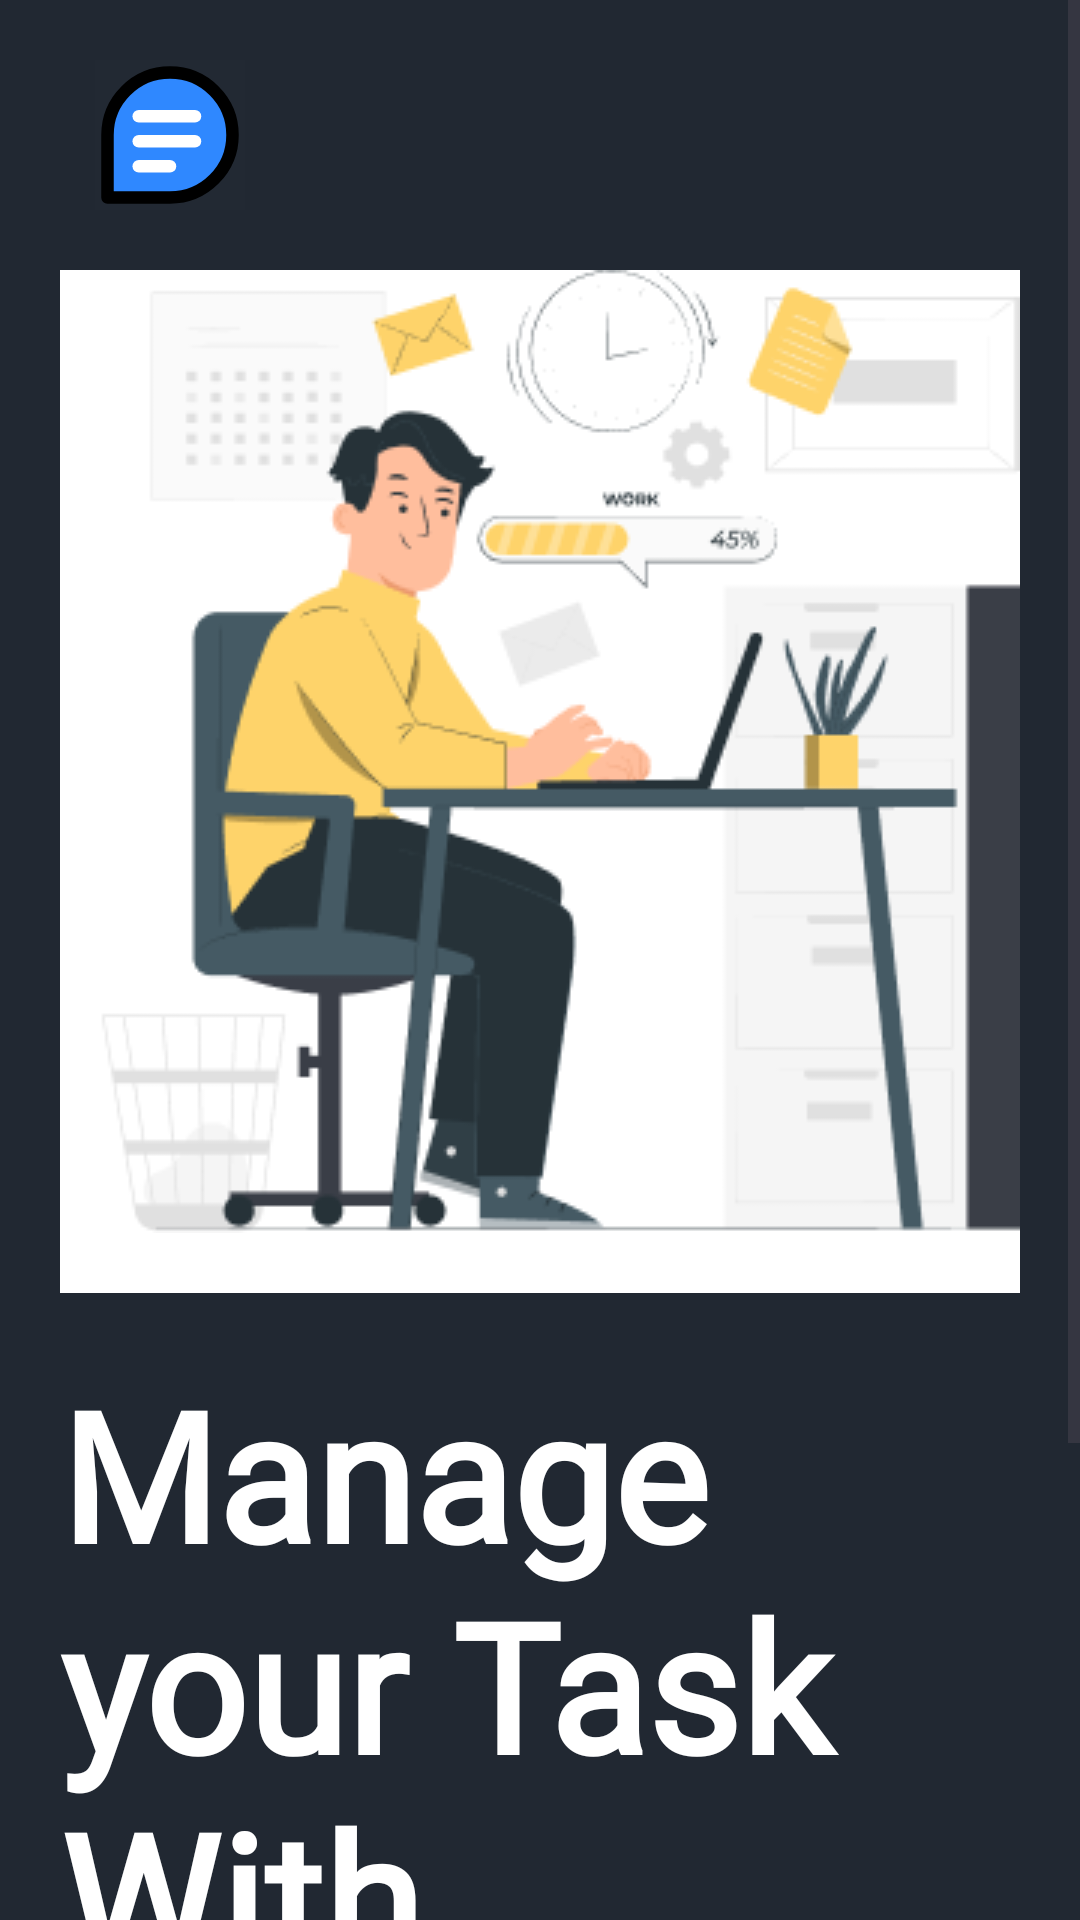

Icons on this 1080px×1920px Android screen, each with its box as (x1, y1, x2, y2):
message: (101, 66, 239, 204)
